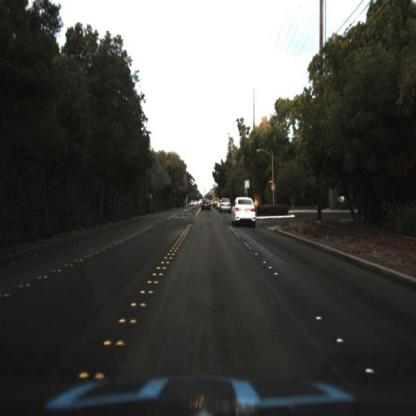car: (230, 195, 259, 230), (201, 199, 213, 215), (219, 195, 230, 212)
